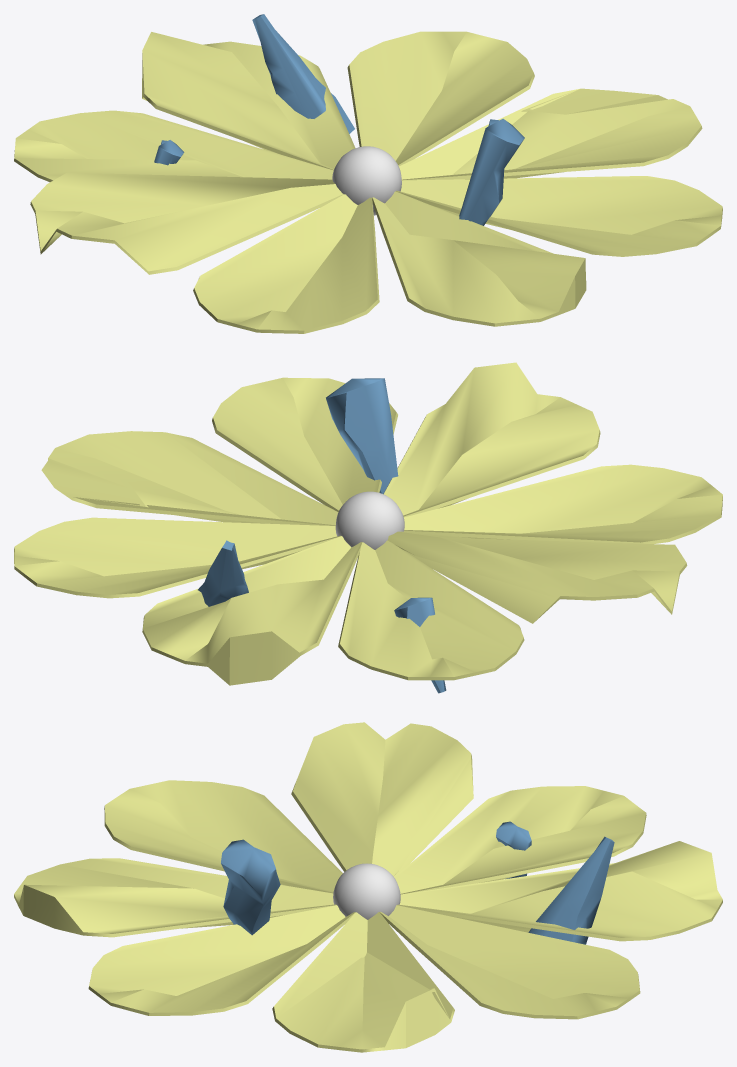
The model's file is FlowerBlight_L1.fbx.
3 views of the same model, one above another, from view 1: azimuth 30°, elevation 25°; view 2: azimuth 150°, elevation 25°; view 3: azimuth 270°, elevation 25° (orthographic). The views are drawn at different scales.
Parts seen in each view (by area): view 1: Flower6; view 2: Flower6; view 3: Flower6.
Boxes of the visible parts, x1,y1,x2,y2 form: Flower6: (14, 14, 722, 333); Flower6: (14, 362, 722, 693); Flower6: (14, 722, 722, 1052).
Bounding box in the file's own units: 13.65 × 3.3 × 13.66.
